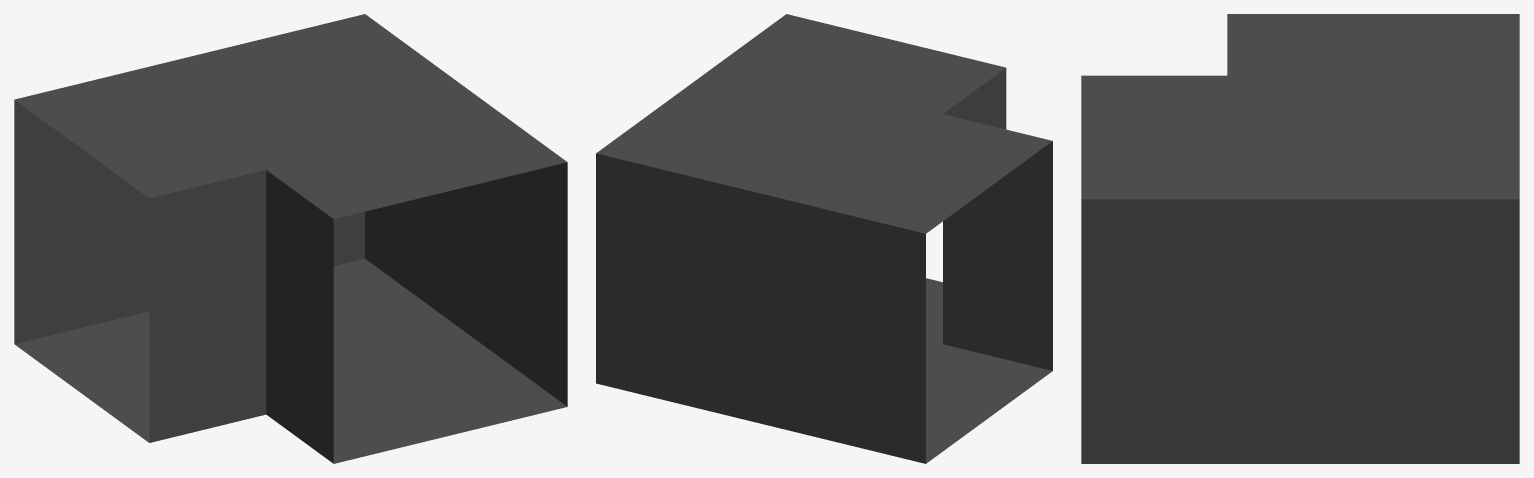
The model's file is Tunnel_Corner_2x1x2.fbx.
The picture shows the model from 3 angles, left to right: view 1: azimuth 30°, elevation 25°; view 2: azimuth 150°, elevation 25°; view 3: azimuth 270°, elevation 25°; orthographic projection. The views are drawn at different scales.
Visible parts, largest first — view 1: Tunnel_Corner_2x1x2; view 2: Tunnel_Corner_2x1x2; view 3: Tunnel_Corner_2x1x2.
Boxes of the visible parts, x1,y1,x2,y2 form: Tunnel_Corner_2x1x2: [14, 14, 567, 463]; Tunnel_Corner_2x1x2: [596, 14, 1052, 463]; Tunnel_Corner_2x1x2: [1081, 14, 1519, 463].
Bounding box in the file's own units: 150 × 100 × 150.
